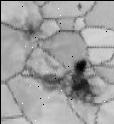good_void: (71, 60, 88, 97), (24, 24, 34, 39), (76, 2, 80, 10)
